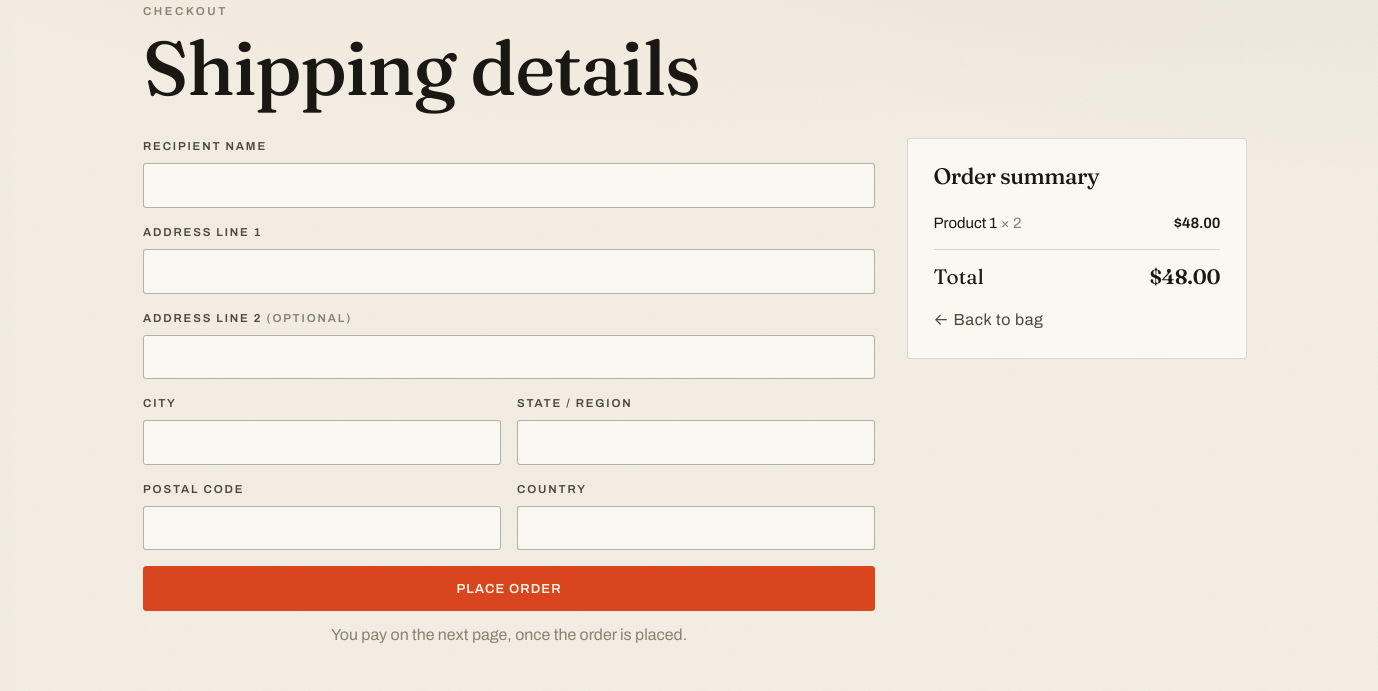
Test: CheckoutPage › shows why an order failed and stays on checkout
Type "Ada Lovelace" into the field labelled "Recipient name".
click(509, 186); type("Ada Lovelace")  # box [143, 163, 875, 208]
Type "1 Analytical Way" into the field labelled "Address line 1".
click(509, 271); type("1 Analytical Way")  # box [143, 249, 875, 294]
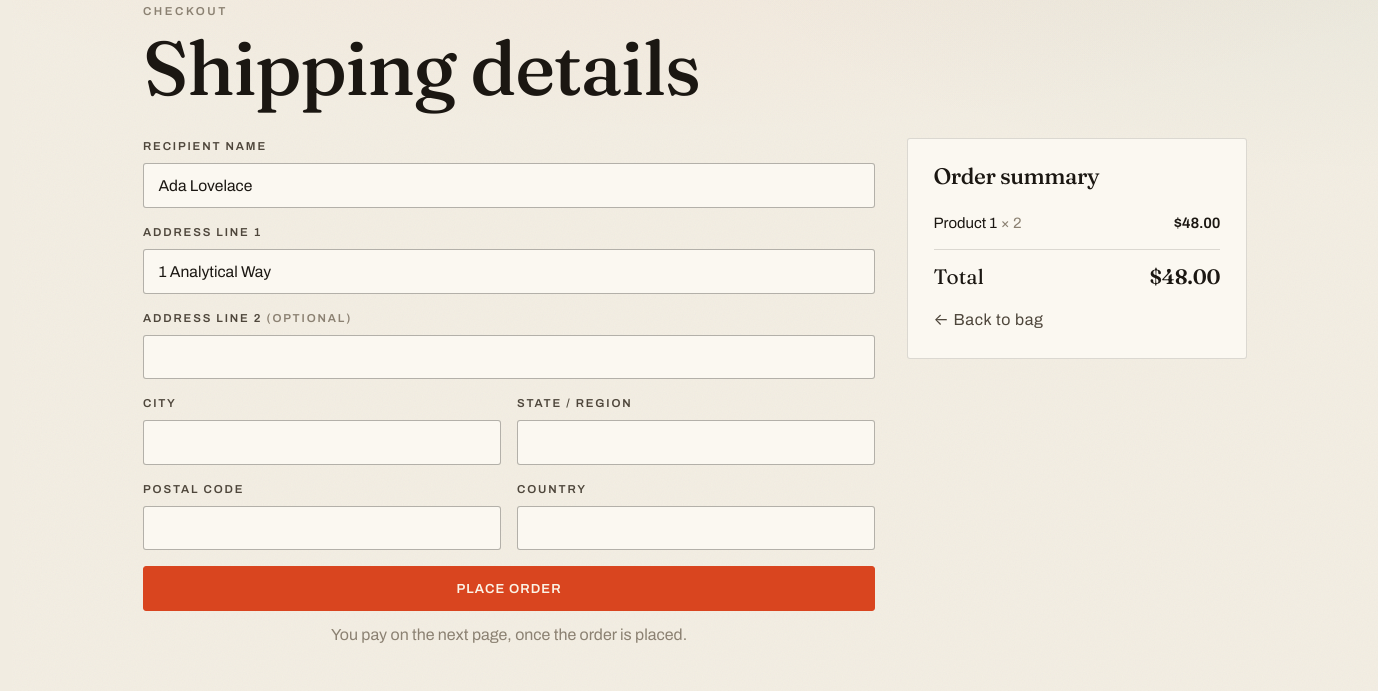
Type "London" into the field labelled "City".
click(322, 443); type("London")  # box [143, 420, 501, 465]
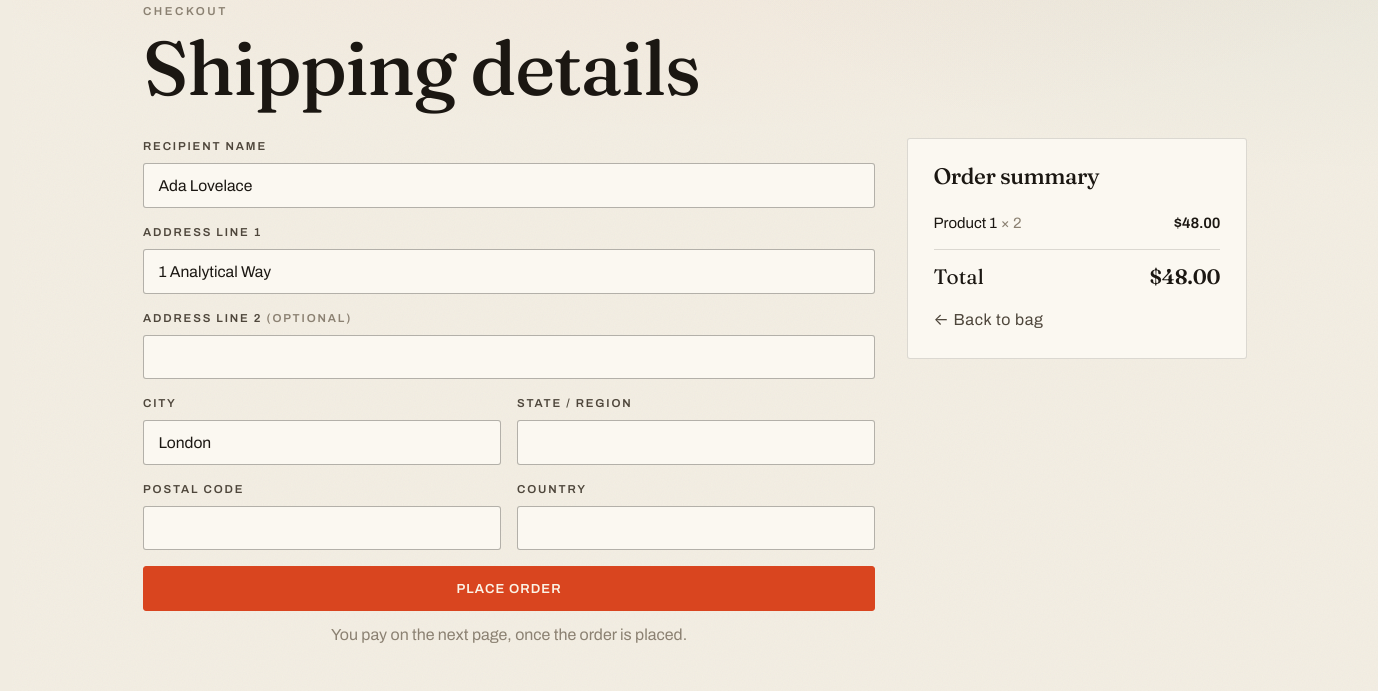
Type "LDN" into the field labelled "State / region".
click(696, 443); type("LDN")  # box [517, 420, 875, 465]
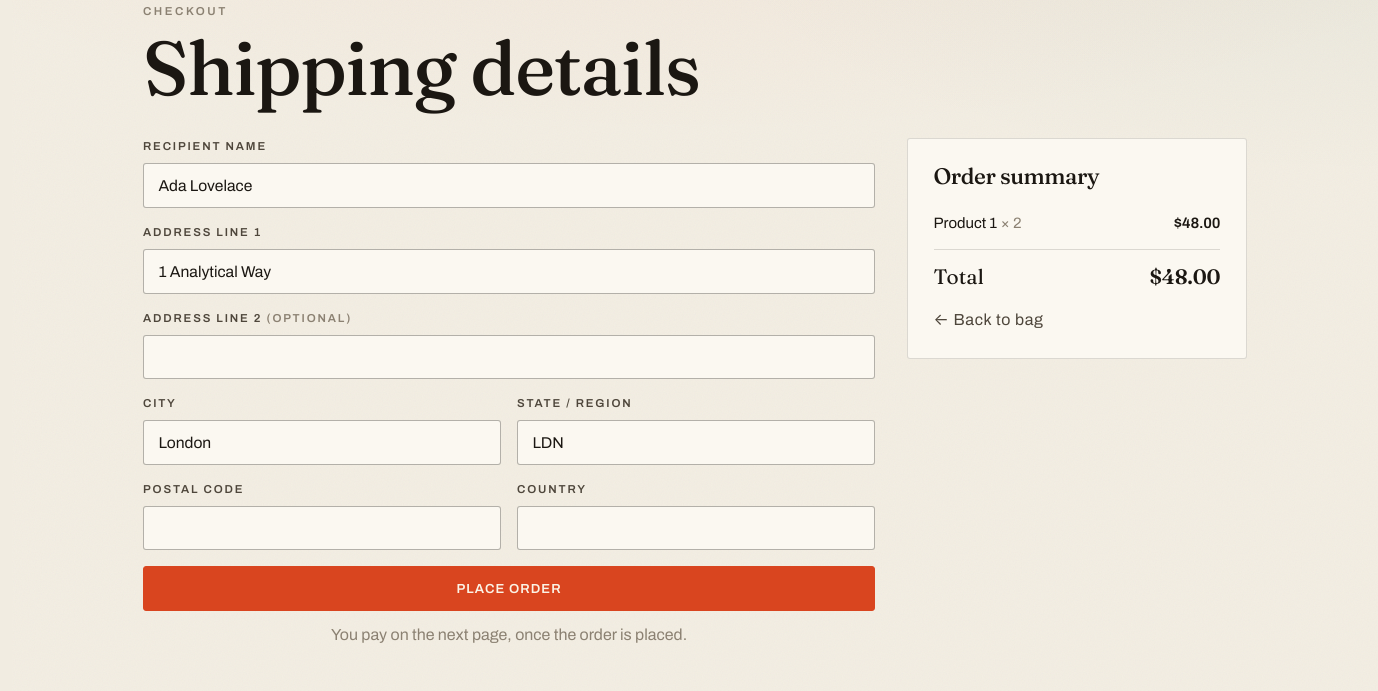
Type "EC1A" into the field labelled "Postal code".
click(322, 528); type("EC1A")  # box [143, 506, 501, 550]
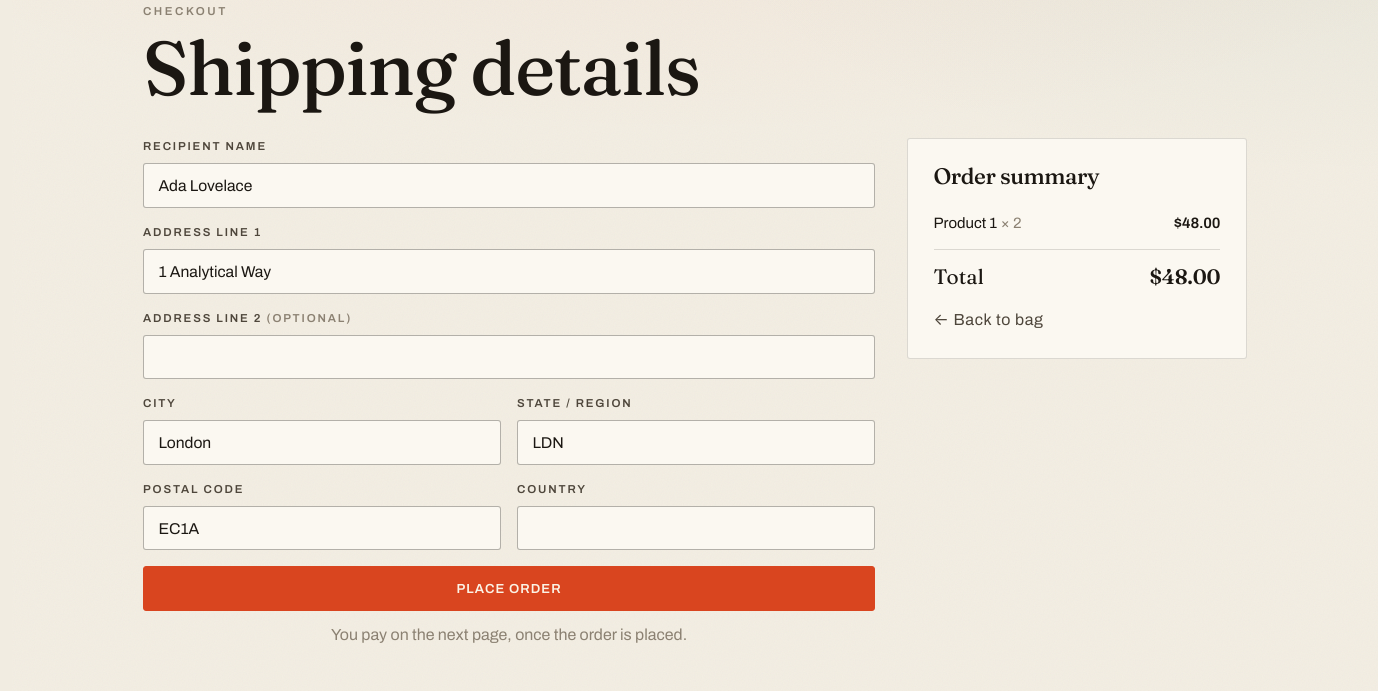
Type "UK" into the field labelled "Country".
click(696, 528); type("UK")  # box [517, 506, 875, 550]
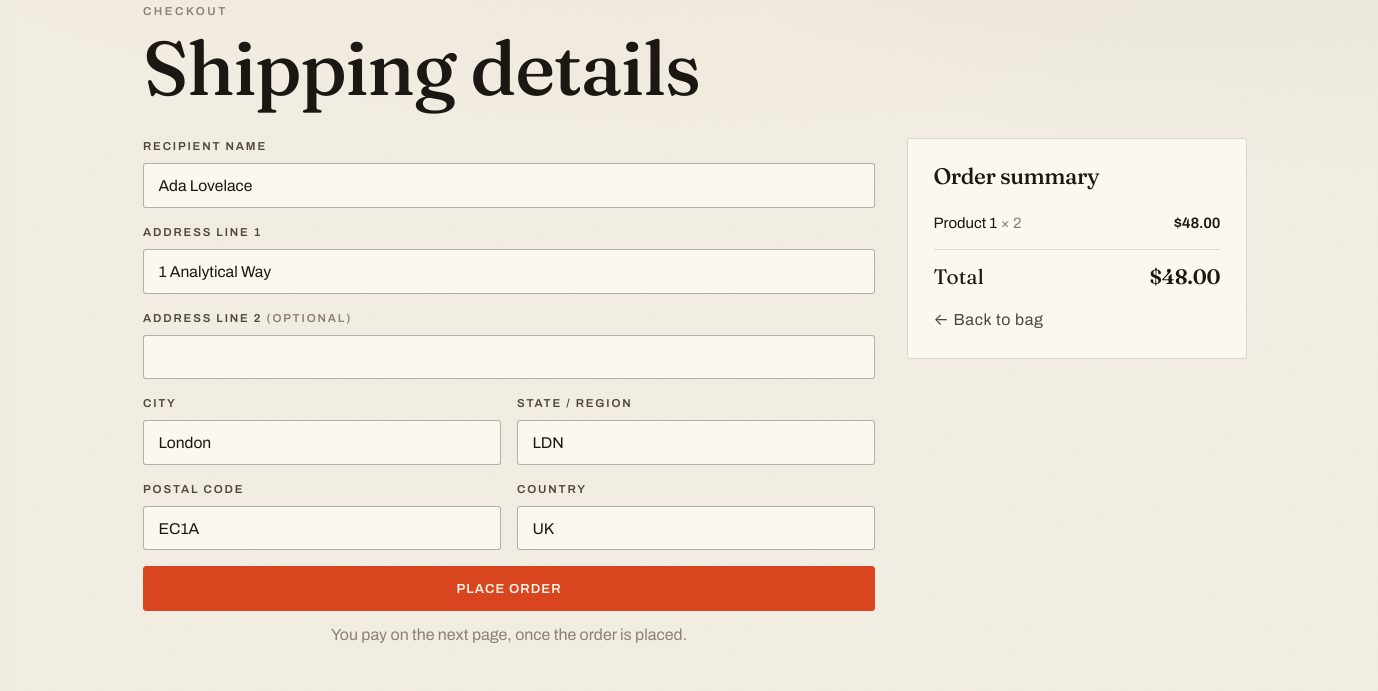
Click the button "Place order".
click(509, 589)  # box [143, 566, 875, 611]
(page scrolled)
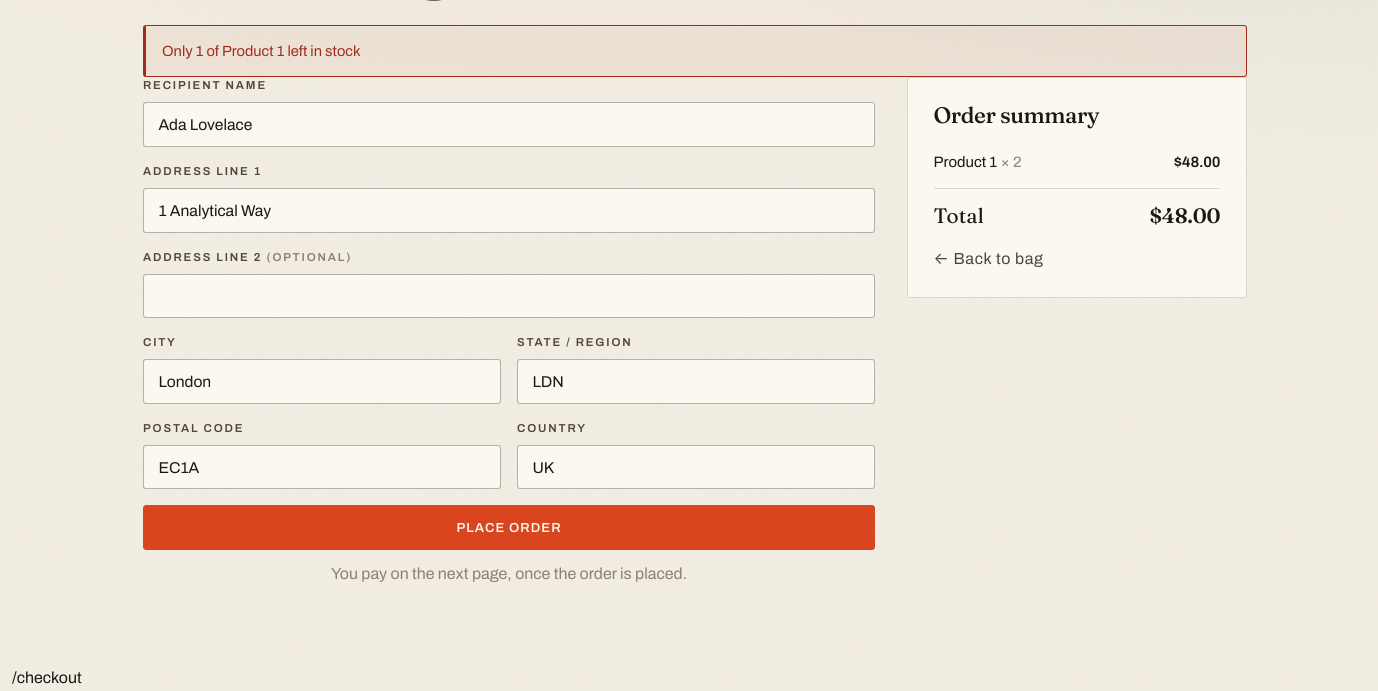
expect the text with test id "location" reads "/checkout": met, box [12, 670, 82, 686]
expect the message reads "Only 1 of Product 1 left in stock": met, box [162, 43, 360, 59]
